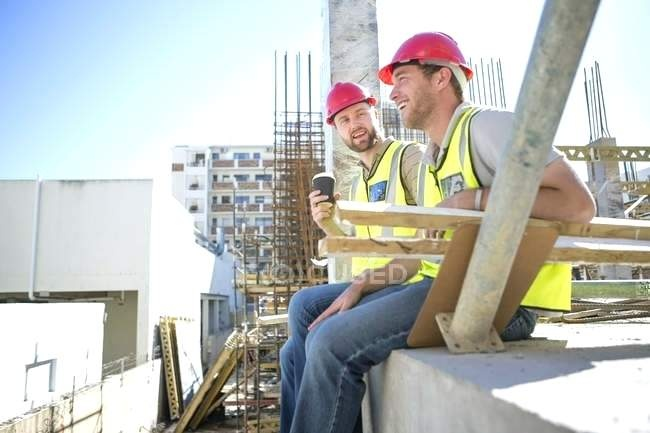red: (390, 28, 466, 128), (324, 79, 380, 155)
